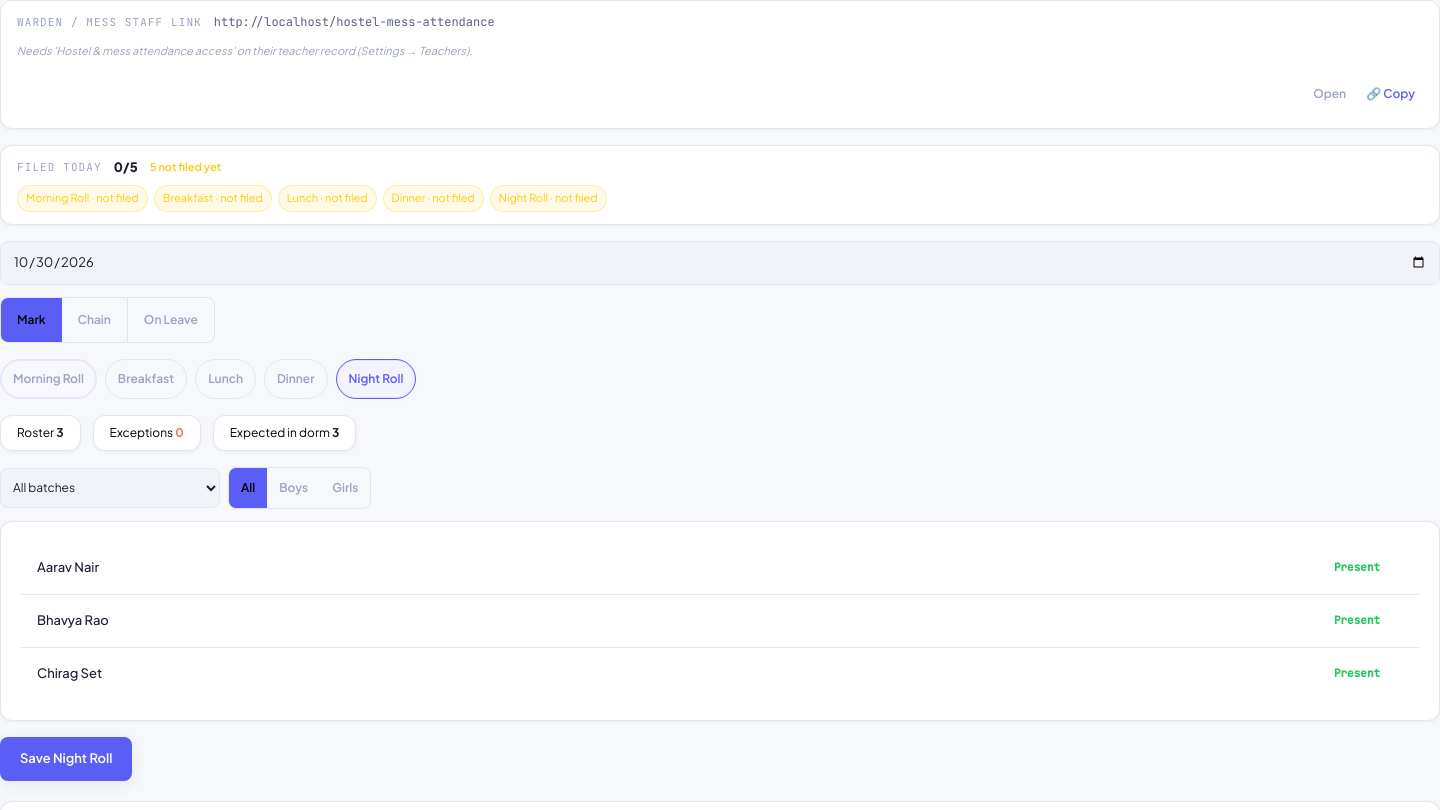
HostelTab — chain view › reports all-accounted-for when there are no exceptions
The image size is (1440, 810).
Check: the button "Aarav Nair" is shown, box x1=37 y1=558 x2=99 y2=577
Click the button "Chain" at {"x": 94, "y": 320}, box x1=62 y1=298 x2=127 y2=342
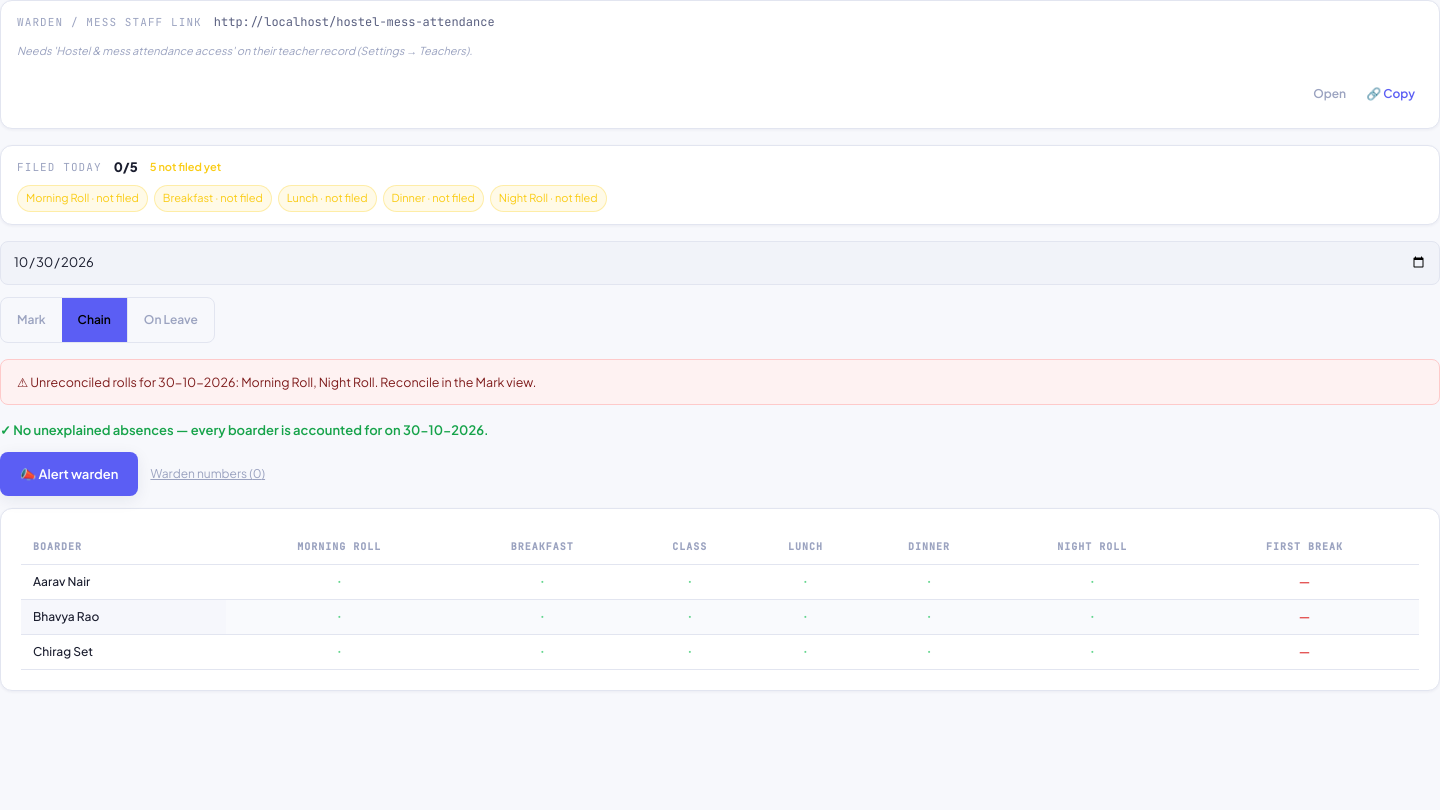
Check: the text "every boarder is accounted for" is shown, box x1=0 y1=422 x2=403 y2=438
